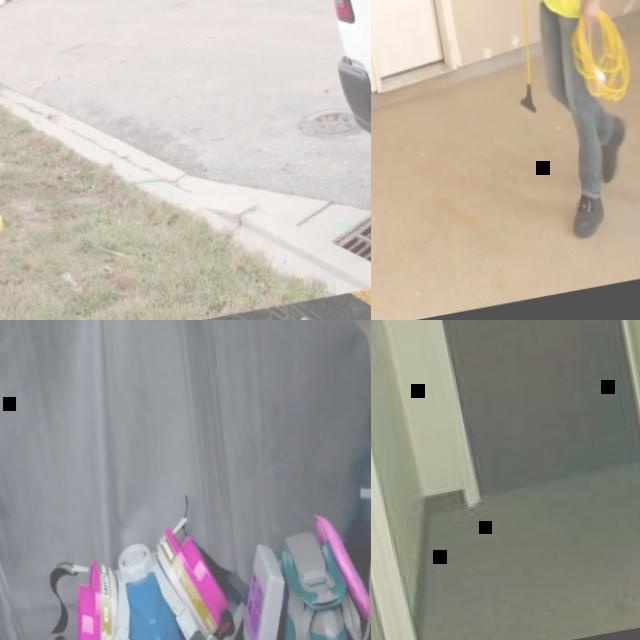Mask: (52, 515, 241, 640), (219, 503, 371, 640)
Person: (457, 0, 640, 245)
vehicle: (300, 0, 371, 286)
